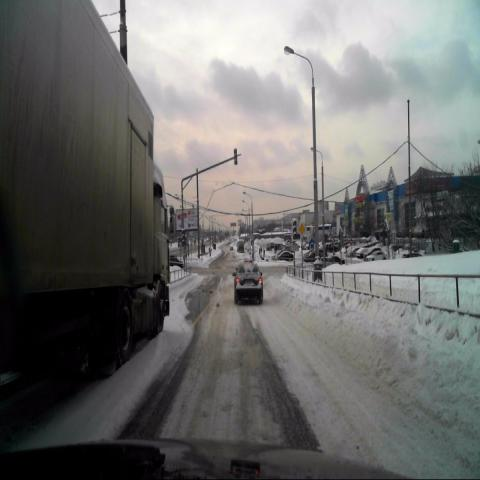2_1: (298, 219, 306, 237)
